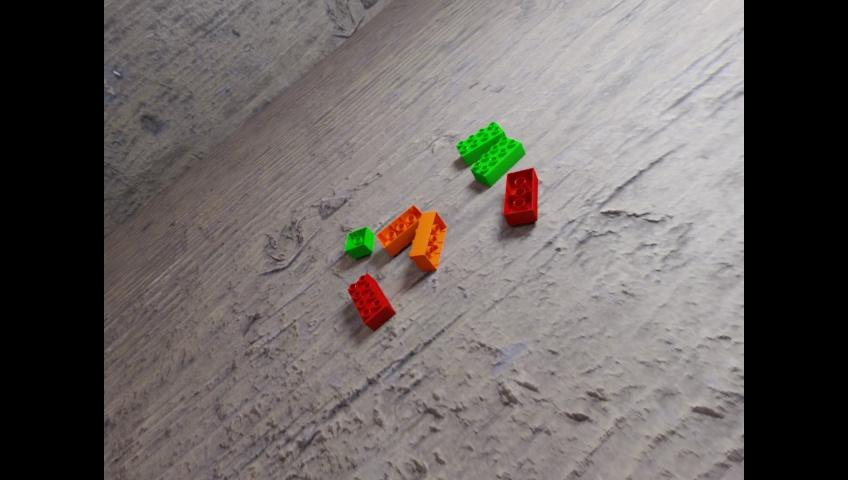2x2_green: (344, 226, 374, 258)
4x2_green: (470, 136, 524, 186), (455, 121, 505, 166)
4x2_orange: (375, 204, 421, 256), (410, 212, 447, 273)
4x2_red: (347, 272, 395, 330), (505, 167, 539, 225)
